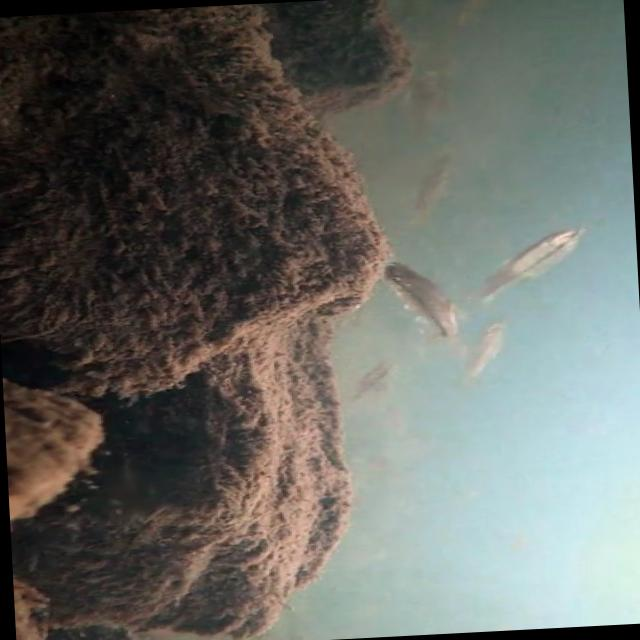Cakil Baligi: (382, 256, 466, 346)
